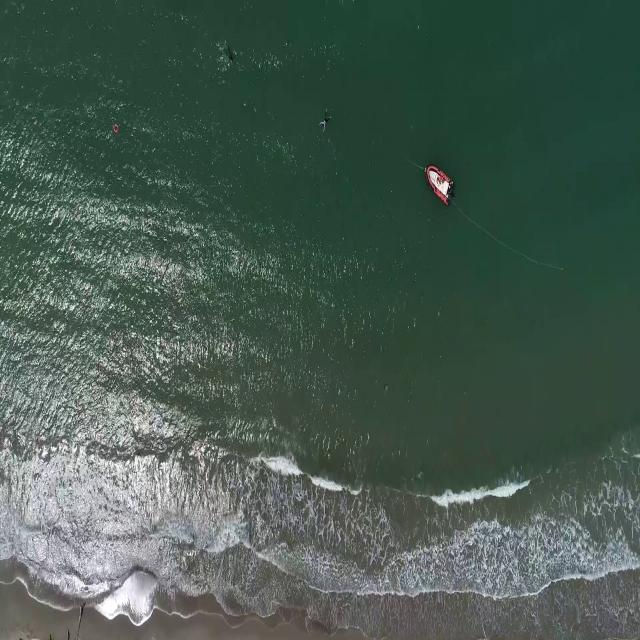boat: (426, 161, 453, 207)
life_buoy: (112, 121, 120, 133)
person: (319, 110, 332, 134), (222, 44, 237, 64)
wood: (68, 598, 86, 640)
